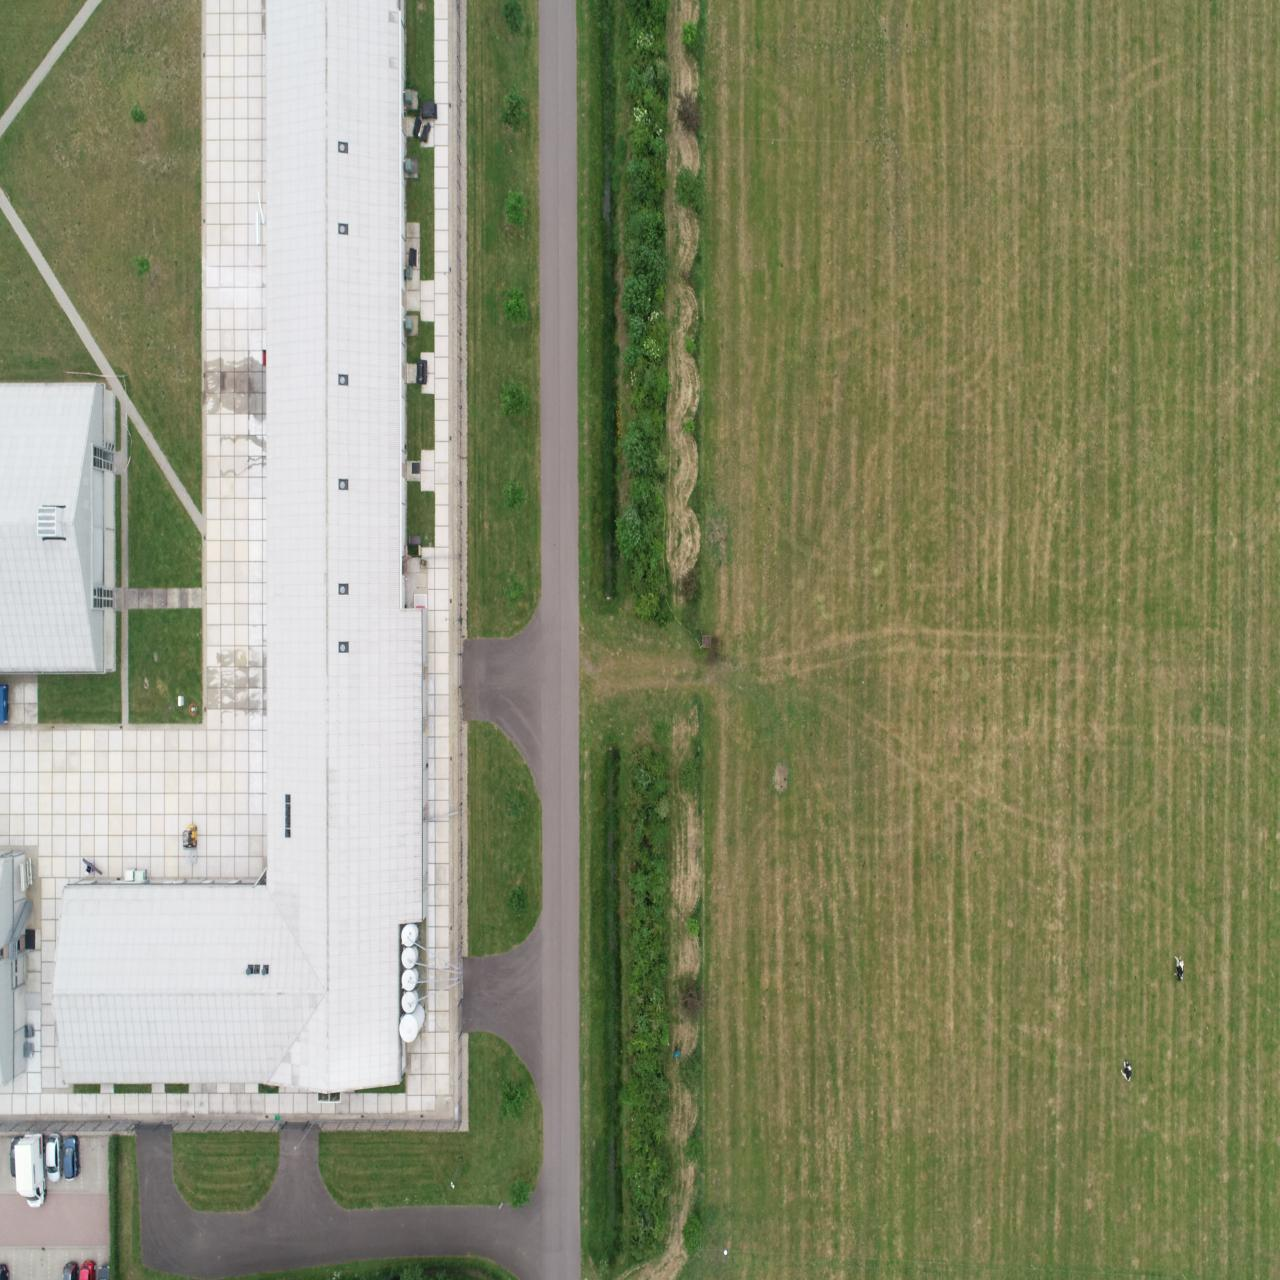cow: (1172, 953, 1187, 982), (1119, 1056, 1133, 1083)
